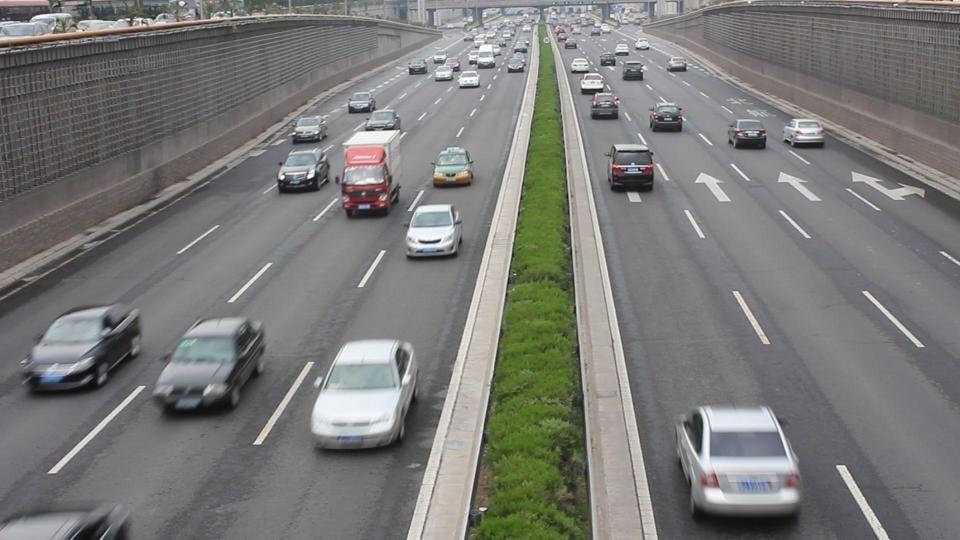car: (674, 404, 803, 521), (310, 338, 419, 451), (19, 303, 144, 394), (152, 316, 268, 414), (1, 498, 136, 540), (404, 203, 465, 258), (606, 143, 656, 192), (276, 150, 331, 193), (430, 147, 475, 187), (727, 117, 769, 150), (781, 118, 827, 147), (649, 101, 686, 132), (290, 115, 328, 144), (590, 92, 621, 119), (348, 92, 377, 114), (580, 73, 605, 94), (473, 47, 496, 68), (621, 62, 646, 81), (666, 57, 689, 73), (569, 58, 590, 73)
